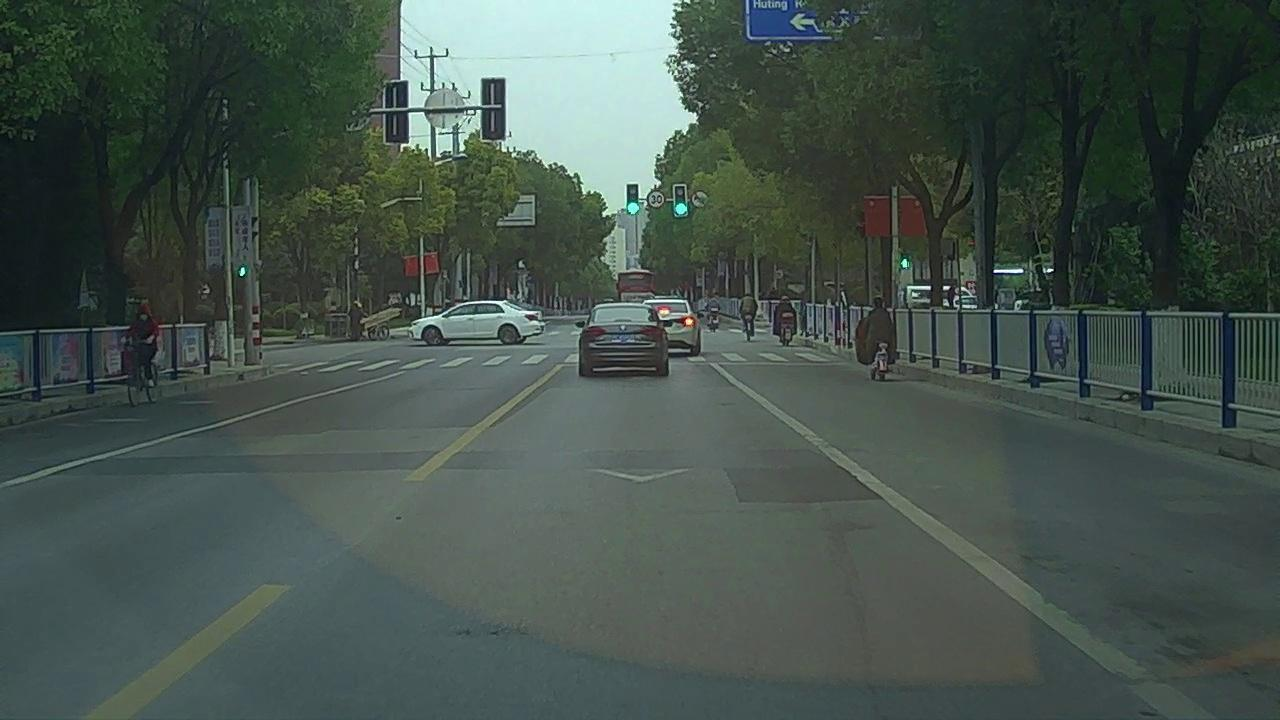traffic_light: (675, 185, 688, 216), (629, 183, 639, 215)
